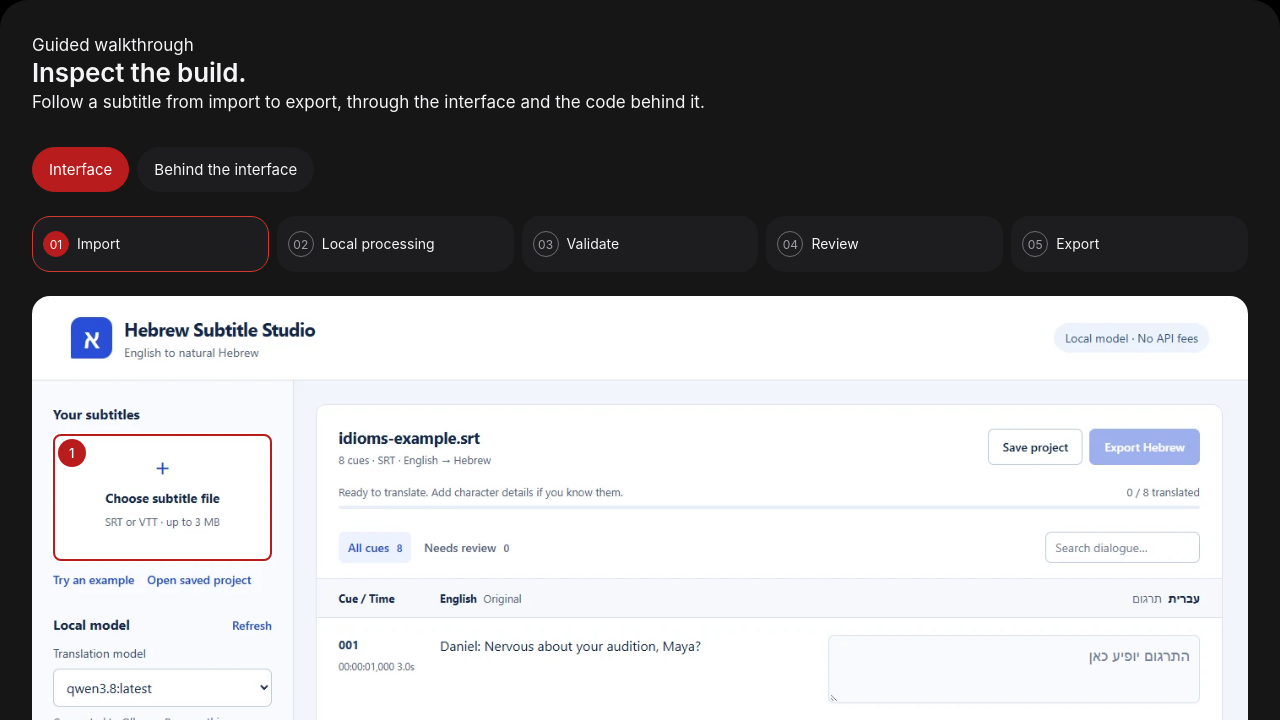
Test: Subtitle Studio guided walkthrough › exposes the effects preference without requiring motion to change state
Click the tab "05 Export" at (1130, 244), box [1011,216,1248,272]
(page scrolled)
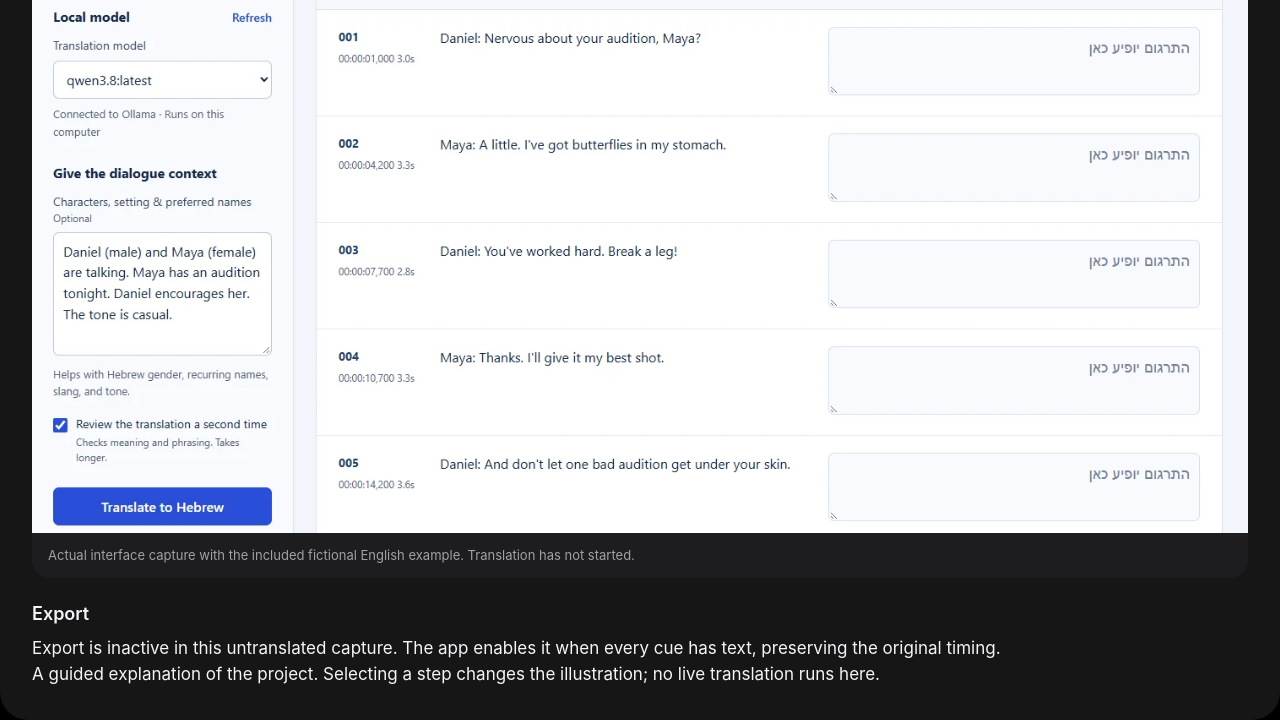
expect the text "Export is inactive in this untranslated capture. The app enables it when every cue has text, preserving the original tim" is shown: met, box [32,638,1001,658]
